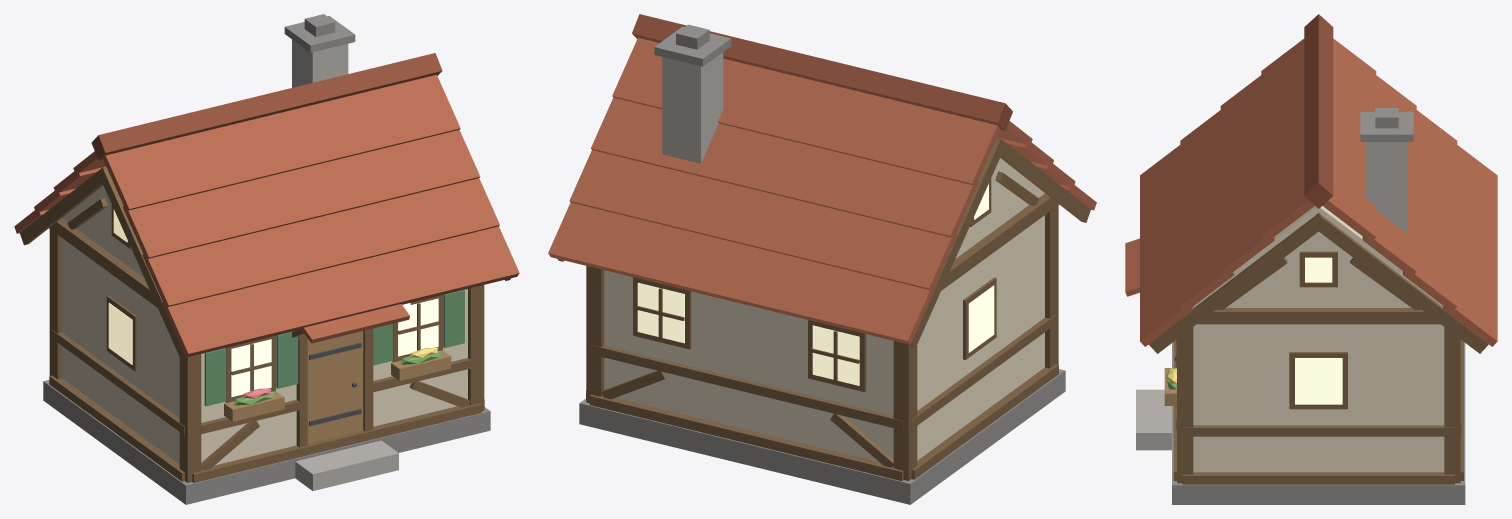
File: house.glb
3 views of the same model, side by side, from view 1: azimuth 30°, elevation 25°; view 2: azimuth 150°, elevation 25°; view 3: azimuth 270°, elevation 25° (orthographic). The views are drawn at different scales.
Parts seen in each view (by area): view 1: House; view 2: House; view 3: House.
Part boxes in pixels (x1,y1,x2,y2): House: (14, 14, 519, 504); House: (548, 14, 1096, 504); House: (1125, 14, 1497, 504).
Bounding box in the file's own units: 5.86 × 5.81 × 5.46.
